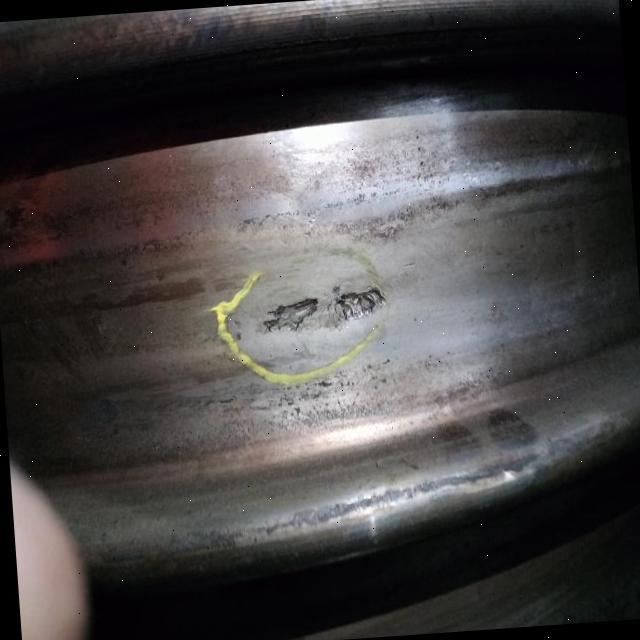Blue hole: (335, 270, 389, 325), (262, 288, 322, 335)
